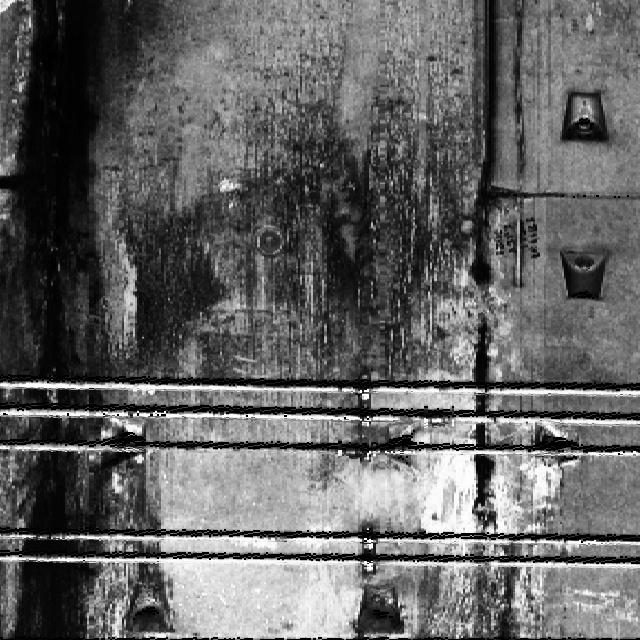leakage: (0, 0, 168, 634), (461, 0, 509, 528)
